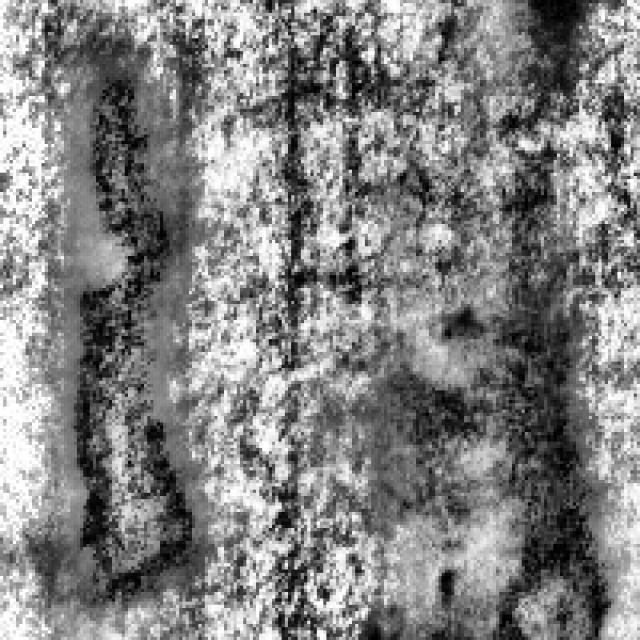Scratches: (368, 275, 611, 634), (64, 51, 202, 602), (512, 0, 595, 48)
